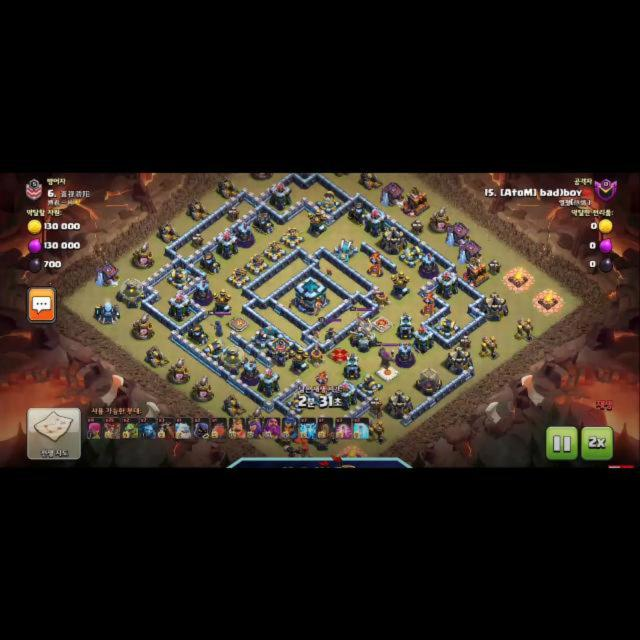AD: (390, 269, 411, 299), (211, 287, 232, 317), (288, 345, 309, 375), (306, 208, 327, 237)
AirSweeper: (306, 342, 326, 368), (372, 289, 391, 310)
BombTower: (343, 353, 362, 380), (397, 311, 414, 340)
Canon: (202, 337, 230, 361), (357, 372, 383, 396), (399, 244, 425, 267), (315, 190, 341, 213), (167, 267, 193, 289), (434, 316, 460, 338), (285, 391, 309, 414)
ClanCastle: (266, 332, 295, 367)
Eagle: (349, 317, 377, 352)
Inferno: (367, 250, 383, 276), (420, 291, 436, 316), (315, 371, 330, 396)
KingPad: (369, 314, 395, 332)
Mortar: (347, 201, 369, 226), (199, 251, 222, 274), (251, 211, 275, 233), (186, 323, 208, 345)
QueenPad: (327, 345, 351, 364)
RcPad: (230, 315, 249, 331)
Scattershot: (250, 325, 274, 352), (334, 238, 358, 263)
TH13: (294, 274, 327, 314)
WardenPad: (376, 363, 398, 381)
WizzTower: (394, 341, 416, 368), (234, 221, 255, 248), (419, 252, 440, 279), (193, 278, 214, 305), (240, 359, 261, 385)
Xbow: (244, 252, 269, 275), (280, 226, 305, 248), (226, 266, 251, 288), (262, 239, 286, 261)
